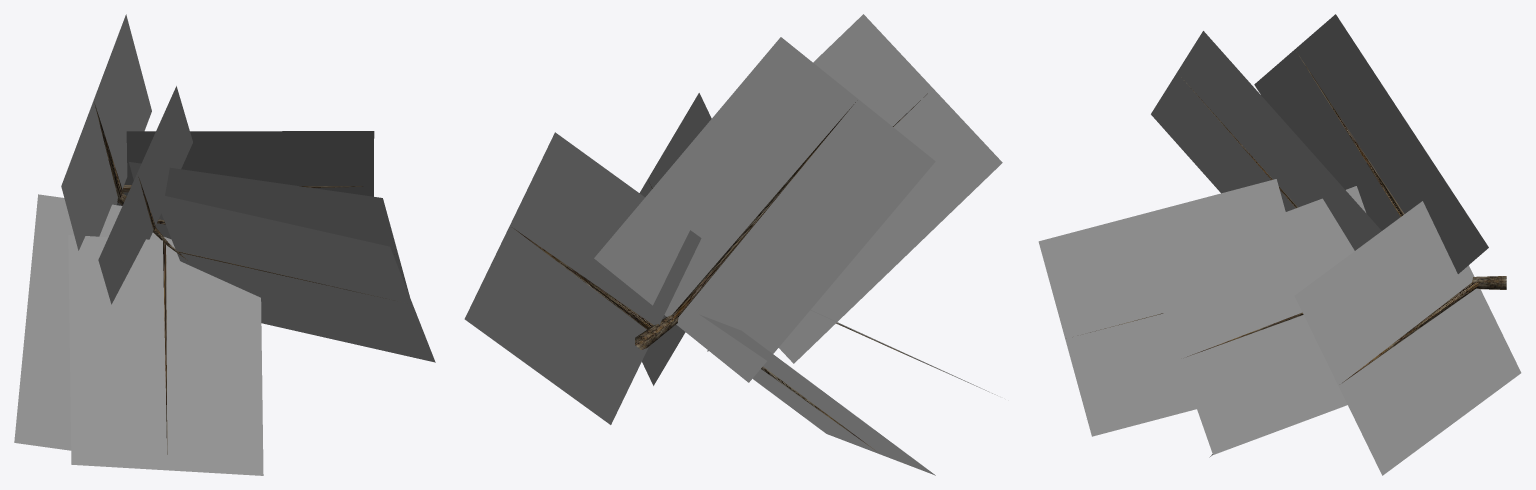
The model's file is bush1.obj.
3 views of the same model, side by side, from view 1: azimuth 30°, elevation 25°; view 2: azimuth 150°, elevation 25°; view 3: azimuth 270°, elevation 25° (orthographic). The views are drawn at different scales.
Visible parts, largest first — view 1: plant_pmat3, plant_pmat2; view 2: plant_pmat3, plant_pmat2, plant_pmat1; view 3: plant_pmat3, plant_pmat2.
Boxes of the visible parts, x1,y1,x2,y2 form: plant_pmat3: (14, 14, 435, 475); plant_pmat2: (94, 103, 394, 454); plant_pmat3: (464, 14, 1002, 475); plant_pmat2: (512, 93, 938, 450); plant_pmat1: (635, 315, 678, 349); plant_pmat3: (1038, 14, 1521, 475); plant_pmat2: (1090, 53, 1480, 382).
Bounding box in the file's own units: 1.09 × 1.07 × 1.08.
